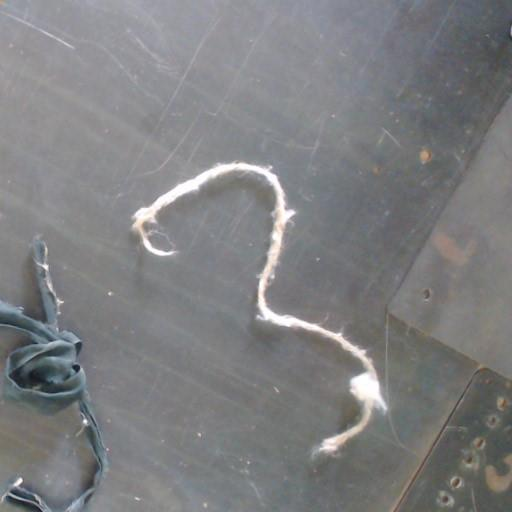cloth: (0, 238, 106, 511)
conveyor belt: (0, 328, 97, 509)
jute: (132, 162, 386, 451)
